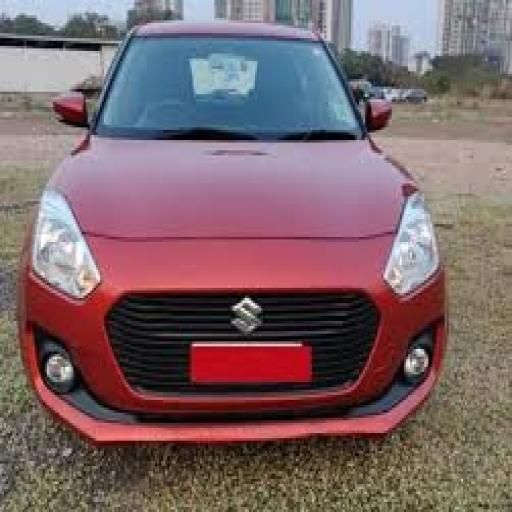car: (26, 8, 480, 466)
